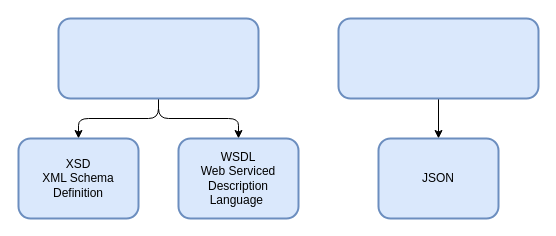
The diagram is 556 pixels wide and 236 high, and some of its shapes have lost their labels. The box of each missing label's shape, as (x1, y1, x2, y2) in pixels:
REST Representational State Transfer: (337, 17, 539, 99)
SOAP Simple-object Access Protocol: (57, 17, 259, 99)
